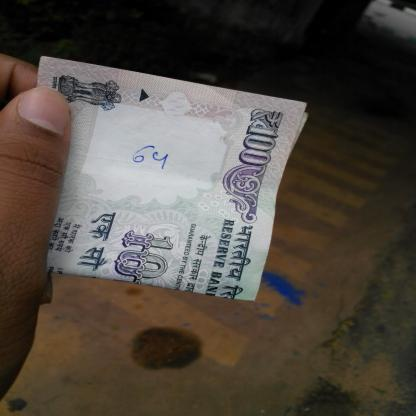Old100Front: (32, 54, 312, 303)
